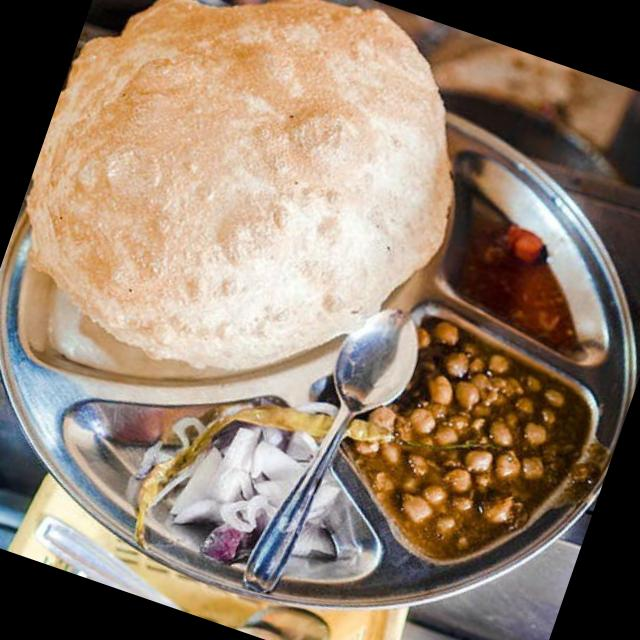Bhatura: (0, 0, 506, 431)
Chole: (327, 304, 608, 594)
